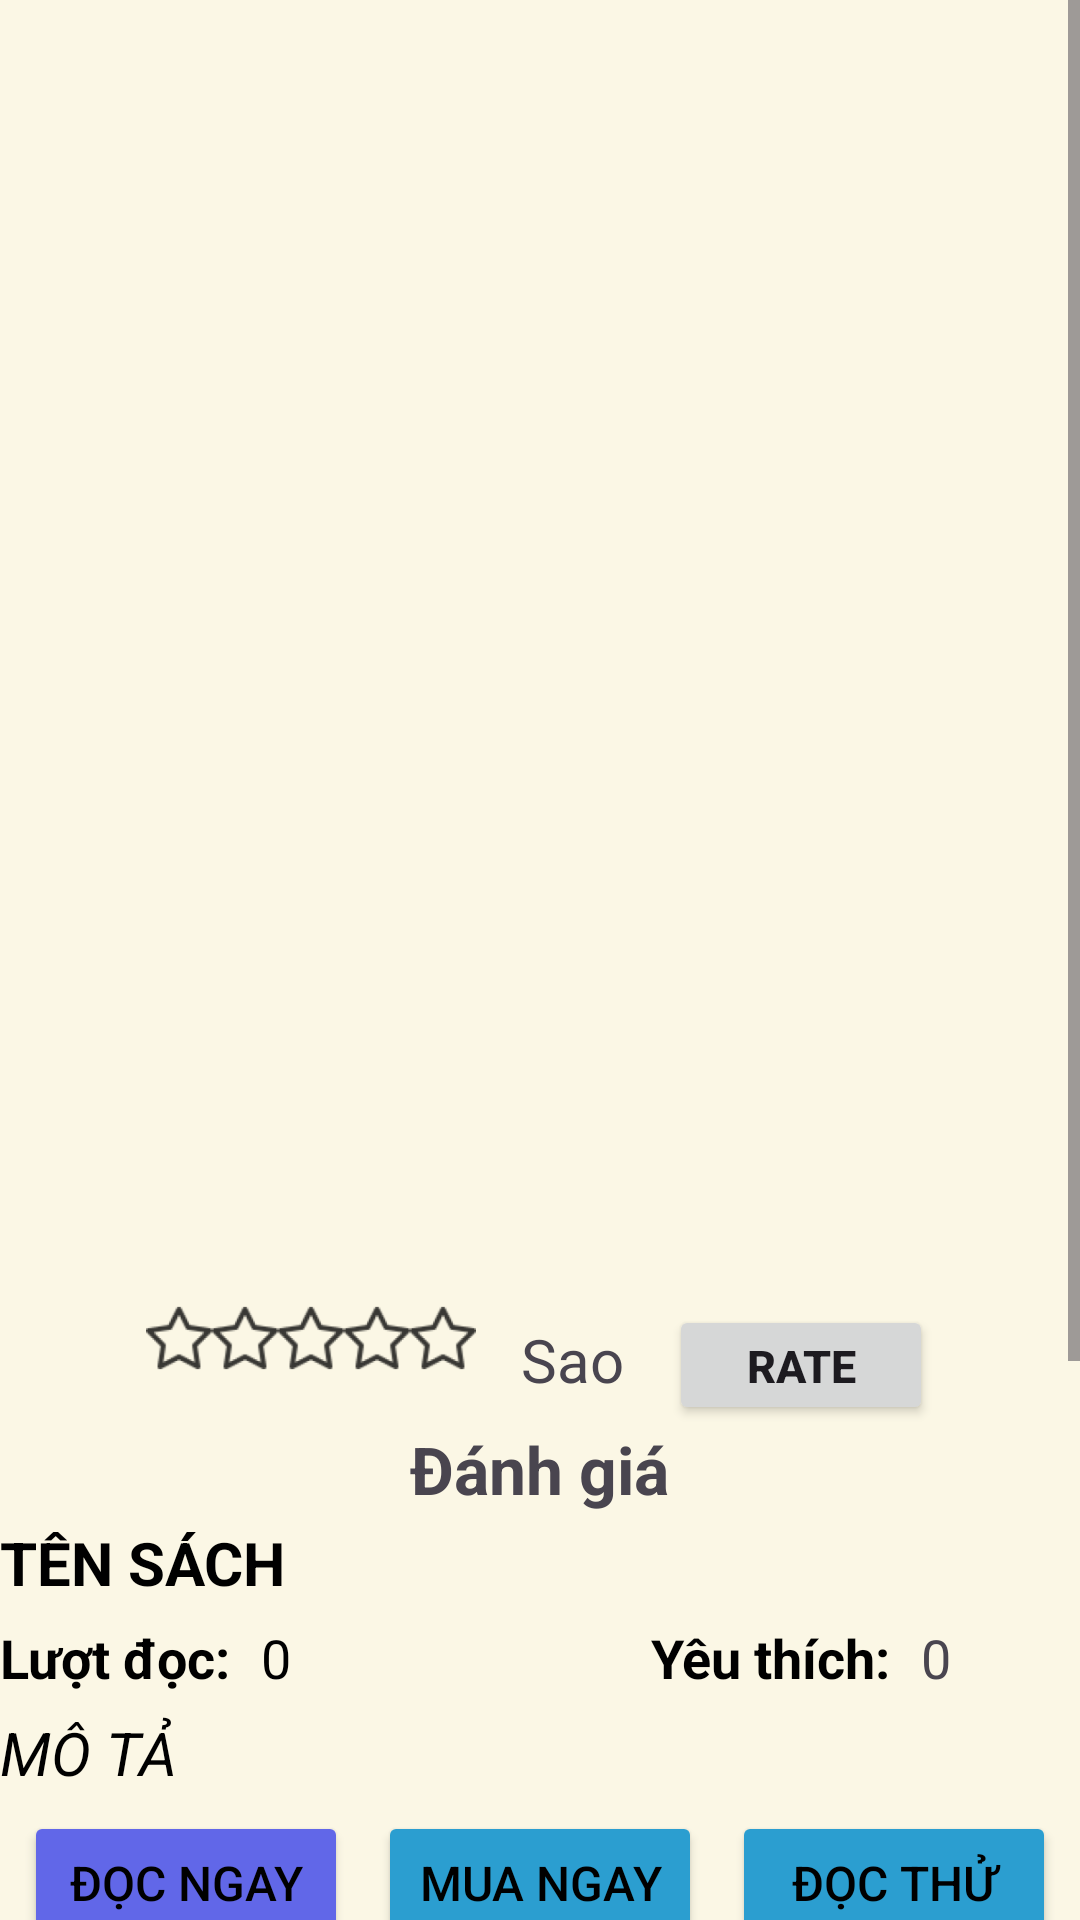

Point at icon controls on the screen. Image size 1080×1920, points as (x,y).
start empty: (179,1338), (245,1338), (311,1338), (377,1338), (443,1338)
